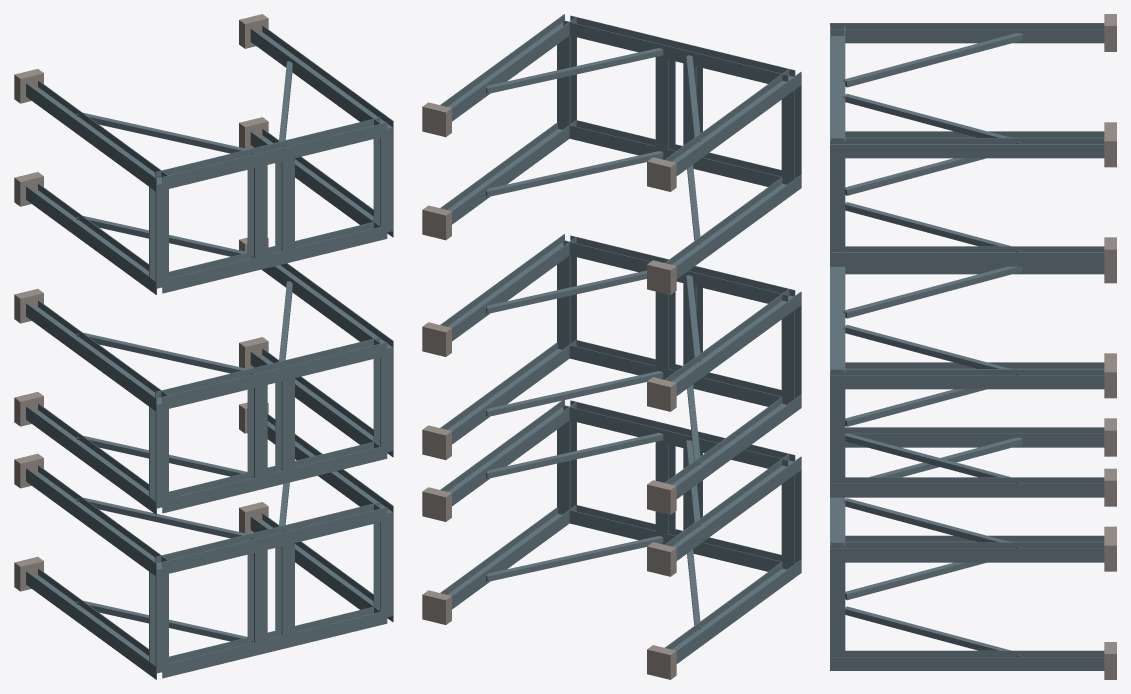
3 renders of one model, left to right at view 1: azimuth 30°, elevation 25°; view 2: azimuth 150°, elevation 25°; view 3: azimuth 270°, elevation 25°, orthographic. The views are drawn at different scales.
Parts seen in each view (by area): view 1: AB_钢架_GZ1柱翼缘, CD_钢架_GZ1柱翼缘, EF_钢架_GZ1柱翼缘, AB_钢架_GL1横梁翼缘, CD_钢架_GL1横梁翼缘, EF_钢架_GL1横梁翼缘, EF_钢架_GL1纵梁翼缘, CD_钢架_GL1纵梁翼缘, AB_钢架_GL1纵梁翼缘, CD_钢架_ZC1斜撑, AB_钢架_ZC1斜撑, EF_钢架_ZC1斜撑 (+6 smaller); view 2: AB_钢架_GZ1柱翼缘, CD_钢架_GZ1柱翼缘, EF_钢架_GZ1柱翼缘, AB_钢架_GL1横梁翼缘, CD_钢架_GL1横梁翼缘, EF_钢架_GL1横梁翼缘, AB_钢架_GL1纵梁翼缘, CD_钢架_GL1纵梁翼缘, EF_钢架_GL1纵梁翼缘, AB_钢架_ZC1斜撑, CD_钢架_ZC1斜撑, EF_钢架_ZC1斜撑 (+6 smaller); view 3: AB_钢架_GZ1柱翼缘, EF_钢架_GZ1柱翼缘, CD_钢架_GZ1柱翼缘, AB_钢架_ZC1斜撑, CD_钢架_ZC1斜撑, EF_钢架_ZC1斜撑, AB_基础_柱脚墩, EF_基础_柱脚墩, AB_钢架_GL1横梁腹板, CD_钢架_GL1横梁腹板, CD_钢架_GL1纵梁腹板, AB_钢架_GL1纵梁腹板 (+3 smaller).
Part boxes in pixels (bbox=[...]): AB_钢架_GZ1柱翼缘: bbox=[26, 25, 393, 294]; CD_钢架_GZ1柱翼缘: bbox=[26, 263, 393, 514]; EF_钢架_GZ1柱翼缘: bbox=[26, 414, 393, 679]; AB_钢架_GL1横梁翼缘: bbox=[155, 117, 387, 293]; CD_钢架_GL1横梁翼缘: bbox=[155, 337, 387, 513]; EF_钢架_GL1横梁翼缘: bbox=[155, 502, 387, 678]; EF_钢架_GL1纵梁翼缘: bbox=[149, 512, 393, 672]; CD_钢架_GL1纵梁翼缘: bbox=[149, 348, 393, 507]; AB_钢架_GL1纵梁翼缘: bbox=[149, 128, 393, 287]; CD_钢架_ZC1斜撑: bbox=[76, 281, 292, 477]; AB_钢架_ZC1斜撑: bbox=[76, 61, 292, 257]; EF_钢架_ZC1斜撑: bbox=[76, 482, 289, 642]; AB_钢架_GZ1柱翼缘: bbox=[440, 14, 801, 278]; CD_钢架_GZ1柱翼缘: bbox=[440, 234, 801, 498]; EF_钢架_GZ1柱翼缘: bbox=[440, 400, 801, 663]; AB_钢架_GL1横梁翼缘: bbox=[563, 15, 795, 186]; CD_钢架_GL1横梁翼缘: bbox=[563, 235, 795, 406]; EF_钢架_GL1横梁翼缘: bbox=[563, 400, 795, 571]; AB_钢架_GL1纵梁翼缘: bbox=[557, 35, 801, 183]; CD_钢架_GL1纵梁翼缘: bbox=[557, 255, 801, 403]; EF_钢架_GL1纵梁翼缘: bbox=[557, 420, 801, 569]; AB_钢架_ZC1斜撑: bbox=[486, 48, 700, 244]; CD_钢架_ZC1斜撑: bbox=[486, 270, 700, 464]; EF_钢架_ZC1斜撑: bbox=[486, 433, 700, 629]; AB_钢架_GZ1柱翼缘: bbox=[830, 23, 1104, 266]; EF_钢架_GZ1柱翼缘: bbox=[830, 427, 1104, 670]; CD_钢架_GZ1柱翼缘: bbox=[830, 266, 1104, 497]; AB_钢架_ZC1斜撑: bbox=[843, 33, 1022, 252]; CD_钢架_ZC1斜撑: bbox=[843, 266, 1022, 483]; EF_钢架_ZC1斜撑: bbox=[843, 437, 1022, 656]; AB_基础_柱脚墩: bbox=[1104, 14, 1116, 275]; EF_基础_柱脚墩: bbox=[1104, 418, 1116, 679]; AB_钢架_GL1横梁腹板: bbox=[831, 36, 844, 137]; CD_钢架_GL1横梁腹板: bbox=[831, 267, 844, 368]; CD_钢架_GL1纵梁腹板: bbox=[831, 389, 844, 483]; AB_钢架_GL1纵梁腹板: bbox=[831, 158, 844, 252].
Bounding box in the file's own units: 4.72 × 9.32 × 4.5.
